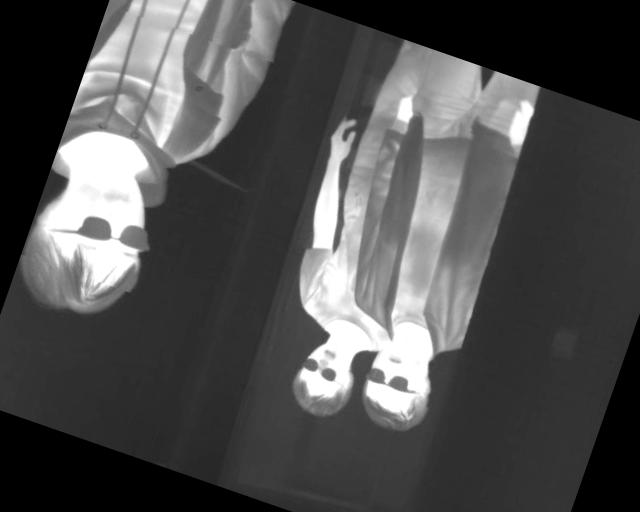face: (8, 149, 167, 333), (352, 332, 445, 439), (284, 331, 365, 425)
